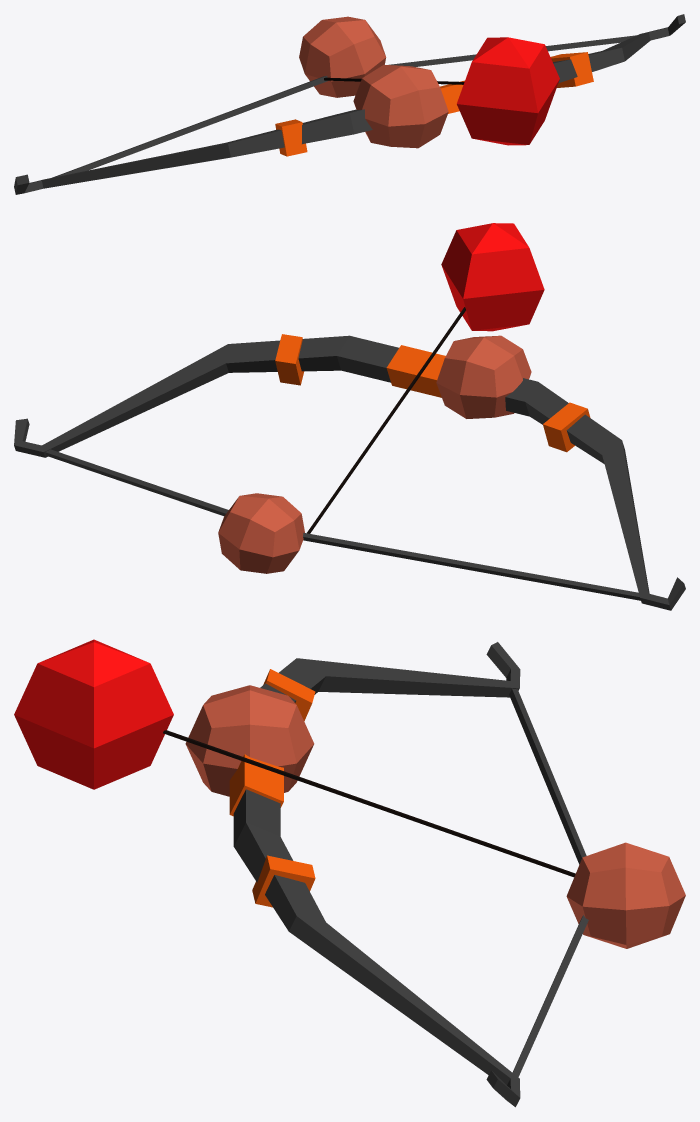
Rendered from shoot.obj.
The picture shows the model from 3 angles, top to bottom: view 1: azimuth 30°, elevation 25°; view 2: azimuth 150°, elevation 25°; view 3: azimuth 270°, elevation 25°; orthographic projection. The views are drawn at different scales.
Parts seen in each view (by area): view 1: CRISTAL.001, WERST.003, WERST.002; view 2: CRISTAL.001, WERST.003, WERST.002; view 3: CRISTAL.001, WERST.002, WERST.003.
Boxes of the visible parts, x1,y1,x2,y2 form: CRISTAL.001: (14, 14, 685, 194); WERST.003: (353, 65, 448, 148); WERST.002: (299, 16, 386, 97); CRISTAL.001: (14, 223, 685, 610); WERST.003: (436, 335, 531, 418); WERST.002: (218, 493, 304, 573); CRISTAL.001: (14, 639, 588, 1107); WERST.002: (566, 842, 685, 948); WERST.003: (185, 685, 314, 796).
Size of the model in its own units: 1.38 by 0.4133 by 0.8954.
